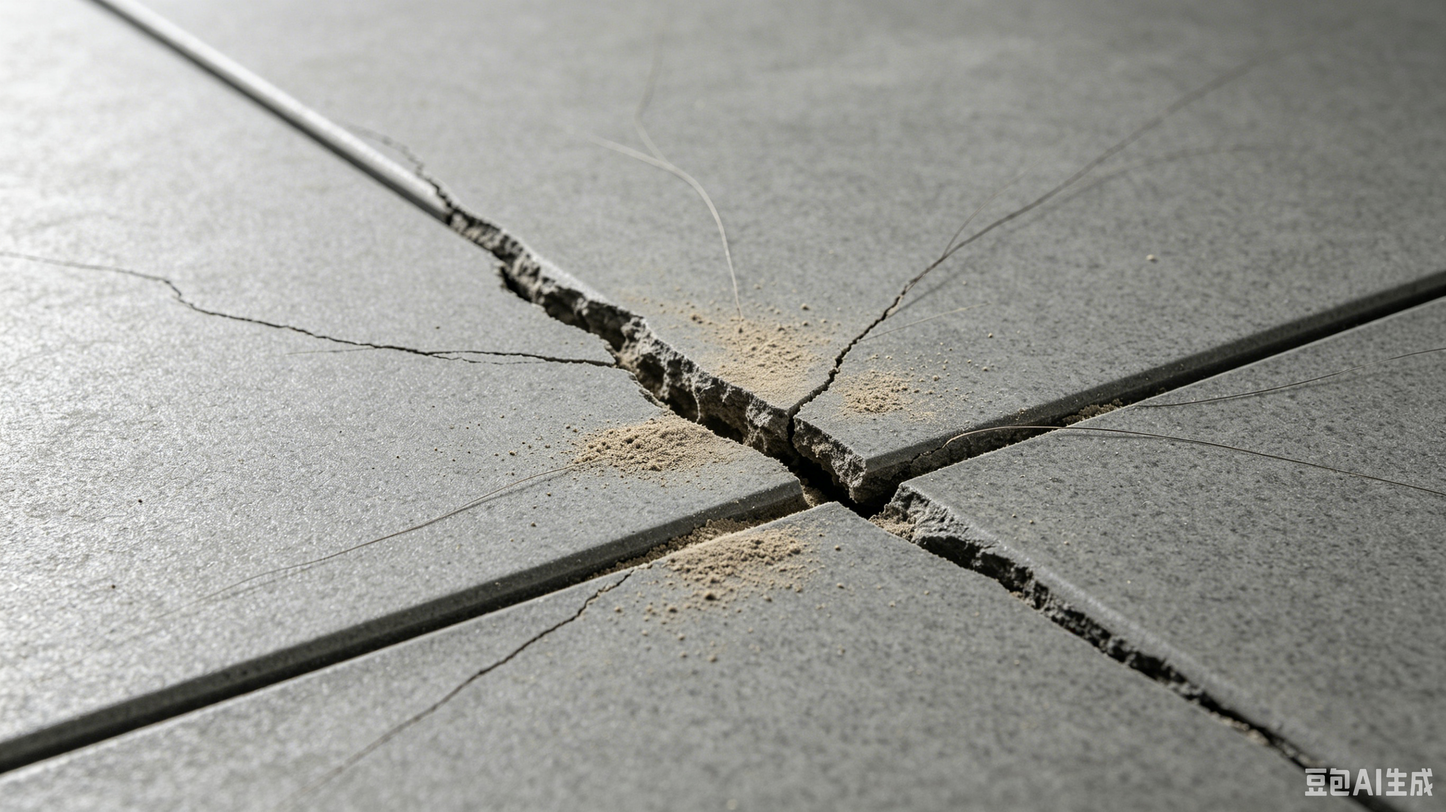floor_defect: (447, 232, 1037, 571), (150, 297, 443, 378), (472, 571, 635, 646), (410, 640, 540, 715)
